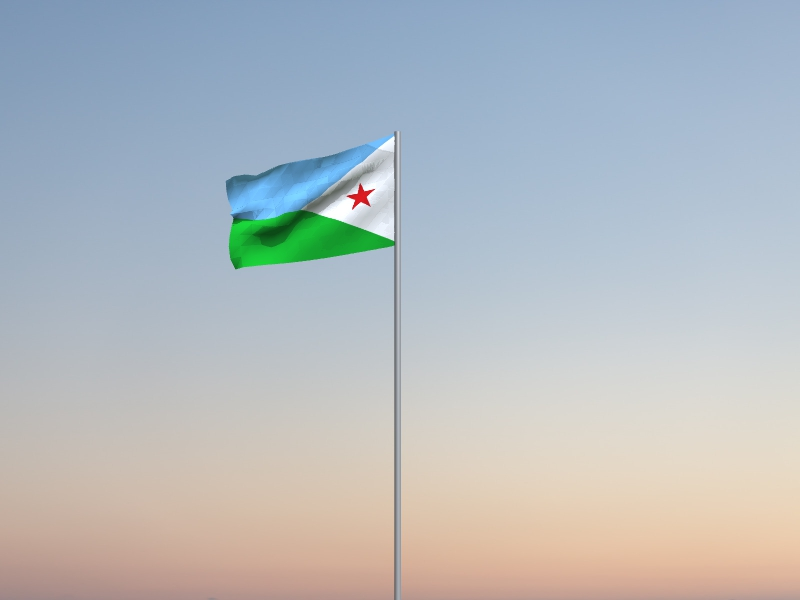dj: (225, 135, 395, 271)
